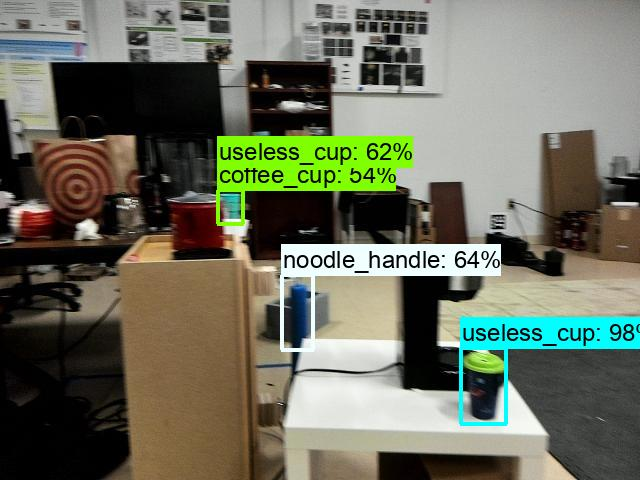coffee_cup: (218, 191, 244, 220)
noodle_handle: (281, 276, 314, 355)
useless_cup: (460, 348, 508, 423)
